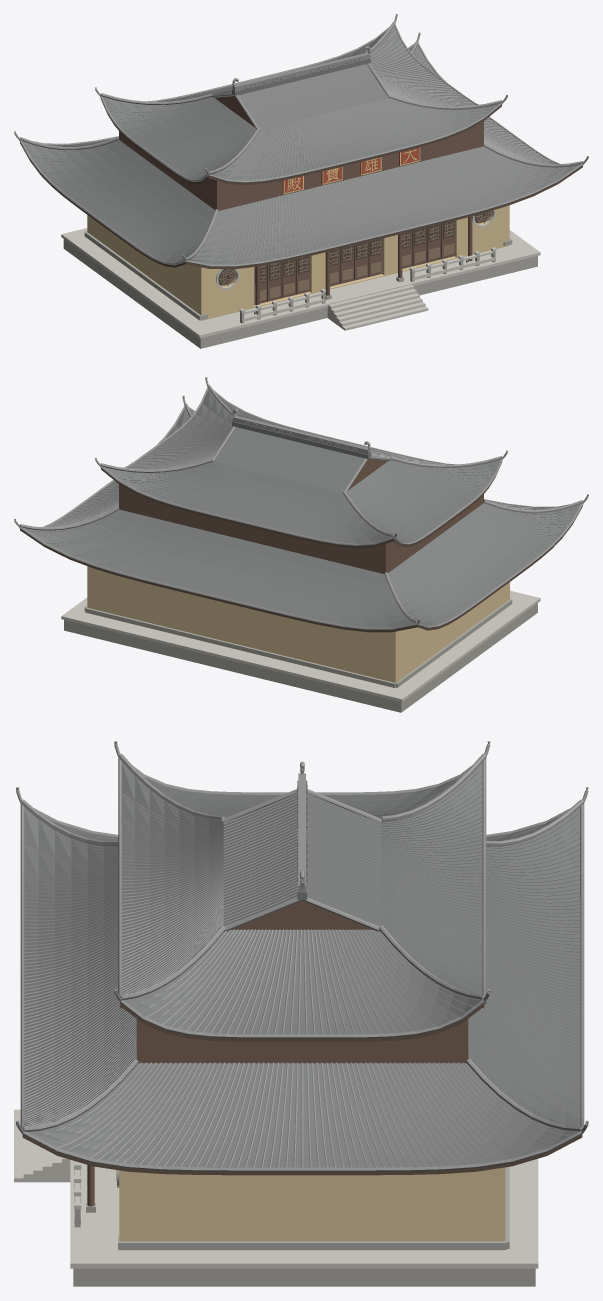
Rendered from putuo-jade-buddha-mahavira-hall-web.glb.
3 views of the same model, one above another, from view 1: azimuth 30°, elevation 25°; view 2: azimuth 150°, elevation 25°; view 3: azimuth 270°, elevation 25° (orthographic). The views are drawn at different scales.
Visible parts, largest first — view 1: 玉佛禅寺大雄宝殿; view 2: 玉佛禅寺大雄宝殿; view 3: 玉佛禅寺大雄宝殿.
Part boxes in pixels (x1,y1,x2,y2): 玉佛禅寺大雄宝殿: (14,14,588,348); 玉佛禅寺大雄宝殿: (14,377,588,712); 玉佛禅寺大雄宝殿: (14,741,588,1286).
Size of the model in its own units: 29.74 by 13.74 by 21.57.
